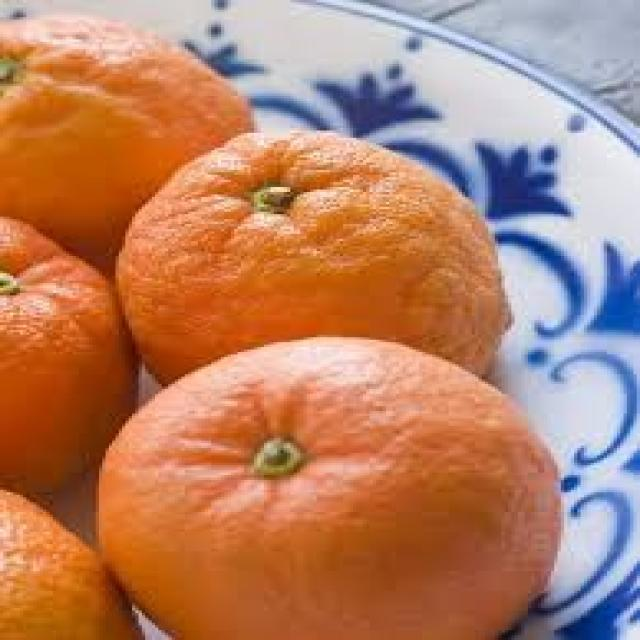Good_Orange: (92, 335, 564, 640), (112, 130, 511, 389)
